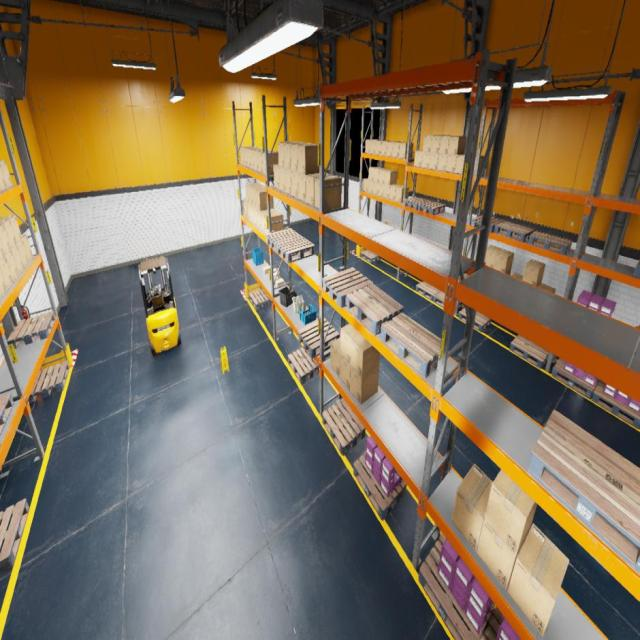box: (507, 524, 569, 636), (484, 470, 537, 556), (477, 518, 531, 590), (452, 464, 492, 552), (351, 333, 380, 378), (350, 366, 379, 404), (314, 175, 342, 210), (306, 173, 332, 206), (341, 323, 360, 365), (298, 144, 320, 175), (290, 143, 313, 172), (0, 215, 22, 244), (522, 260, 546, 286), (278, 141, 300, 167), (284, 142, 304, 170), (0, 218, 16, 249), (494, 249, 514, 273), (255, 188, 274, 210), (0, 257, 13, 289), (5, 250, 18, 282), (261, 209, 278, 233), (265, 212, 283, 234), (484, 246, 502, 268), (11, 244, 24, 274), (262, 151, 278, 175), (253, 150, 270, 172), (0, 224, 12, 255), (258, 150, 274, 173), (340, 354, 350, 390), (331, 337, 340, 377), (0, 159, 12, 187), (245, 182, 261, 203), (448, 136, 466, 154), (249, 184, 264, 205), (17, 240, 28, 268), (22, 234, 33, 262), (240, 146, 256, 165), (246, 148, 261, 168), (252, 186, 265, 208), (243, 147, 258, 166), (430, 136, 446, 153), (250, 148, 262, 170), (439, 135, 452, 154), (395, 186, 409, 203), (423, 135, 437, 152), (298, 173, 306, 202), (473, 155, 484, 176), (399, 142, 413, 158), (0, 268, 7, 298), (446, 154, 457, 173), (284, 169, 292, 195), (378, 168, 391, 184), (278, 167, 286, 192), (291, 171, 298, 199), (384, 170, 398, 184), (375, 140, 388, 155), (0, 164, 7, 191), (390, 185, 402, 200), (374, 168, 386, 183), (392, 142, 404, 157), (455, 154, 464, 173), (538, 284, 555, 294), (437, 154, 447, 171), (368, 167, 380, 181), (371, 140, 382, 155), (429, 153, 438, 170), (274, 164, 280, 189), (380, 140, 390, 155), (387, 141, 396, 157), (422, 152, 431, 168), (414, 150, 422, 168), (365, 139, 374, 154), (0, 239, 5, 261), (511, 272, 523, 280), (256, 208, 260, 229), (378, 183, 384, 197), (372, 182, 378, 195), (254, 207, 258, 226), (250, 204, 254, 223), (243, 198, 247, 217), (384, 184, 389, 199), (368, 180, 373, 194), (276, 278, 284, 286), (270, 276, 278, 284), (274, 268, 280, 278), (263, 266, 270, 274), (364, 178, 368, 192), (247, 201, 250, 219), (269, 268, 277, 274), (384, 222, 392, 226), (634, 325, 640, 328), (507, 271, 511, 275), (537, 283, 541, 286), (0, 189, 1, 191)
forklift: (139, 256, 182, 356)
pallets: (527, 410, 640, 572), (418, 533, 495, 639), (380, 312, 440, 378), (354, 452, 406, 520), (346, 284, 404, 335), (322, 398, 366, 456), (591, 380, 640, 429), (0, 498, 29, 573), (323, 268, 373, 308), (551, 357, 598, 399), (7, 311, 56, 348), (28, 360, 69, 404), (298, 318, 339, 358), (509, 335, 549, 368), (288, 348, 319, 383), (528, 232, 572, 256), (276, 237, 314, 263), (494, 221, 534, 242), (265, 228, 301, 251), (458, 308, 491, 332), (481, 606, 504, 639), (471, 215, 506, 233), (0, 393, 14, 436), (248, 288, 272, 310), (433, 290, 462, 308), (416, 282, 440, 301), (418, 201, 445, 214), (403, 197, 429, 210), (360, 250, 380, 263), (633, 259, 640, 277), (0, 441, 1, 447)
